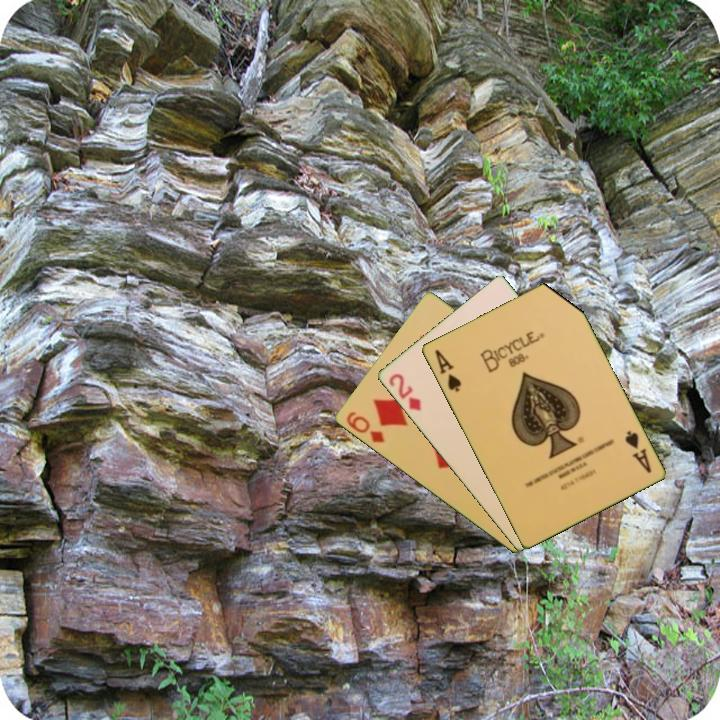2d: (385, 370, 424, 414)
6d: (342, 408, 388, 446)
As: (431, 346, 464, 395), (621, 427, 654, 476)
